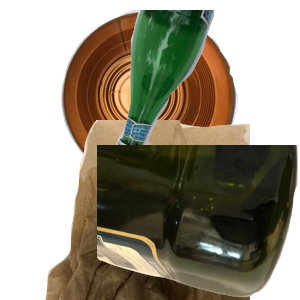glass: (109, 10, 300, 167)
metal: (58, 10, 289, 186)
plastic: (97, 145, 300, 300)
trash: (43, 120, 283, 300)
